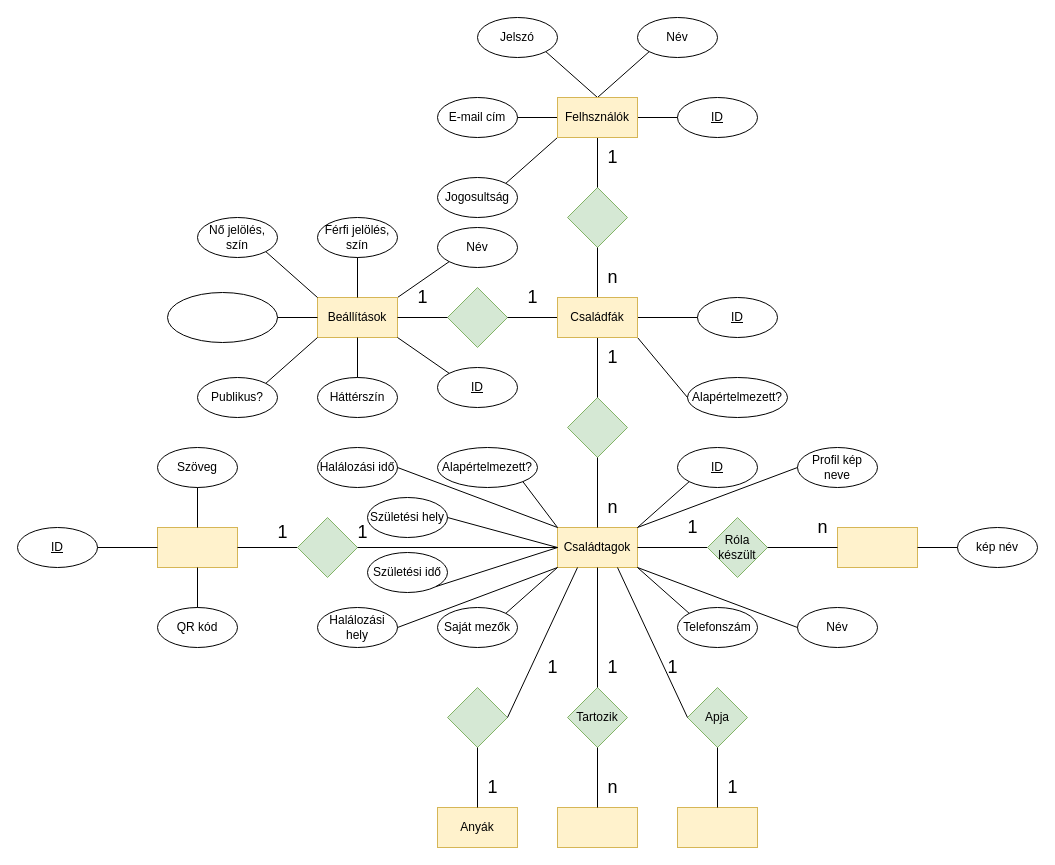
This 1055x865 diagram has some shape labels left out. The centre of each missing label's shape, as x and y in pixels:
Alapértelmezett személy jelölés, szín: the point at 222,317
Anyja: the point at 477,717
Apák: the point at 717,827
Formáz: the point at 477,317
Kezel: the point at 597,217
Képek: the point at 877,547
Partnerek: the point at 597,827
Tartalmaz: the point at 597,427
Történt: the point at 327,547
Életút: the point at 197,547
